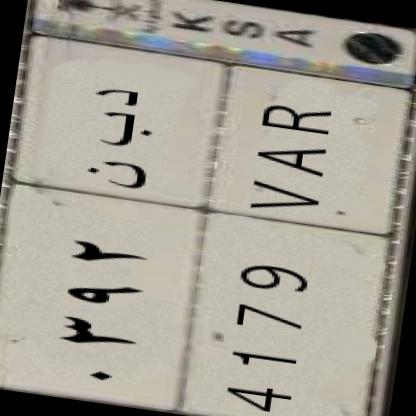english: (165, 51, 416, 416)
